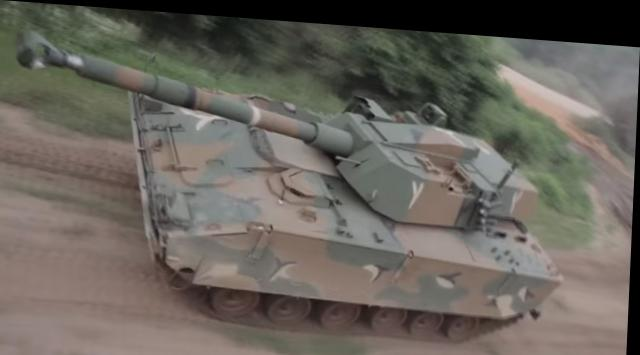tank: (120, 69, 565, 345)
